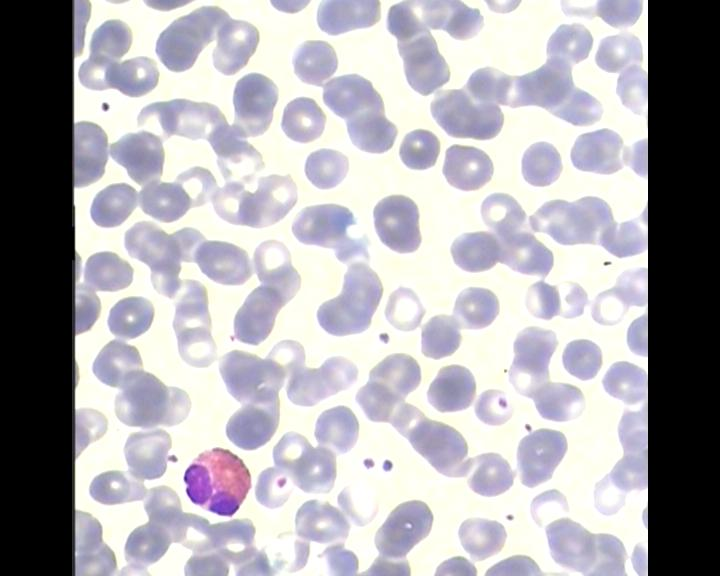eosi: (183, 443, 256, 516)
